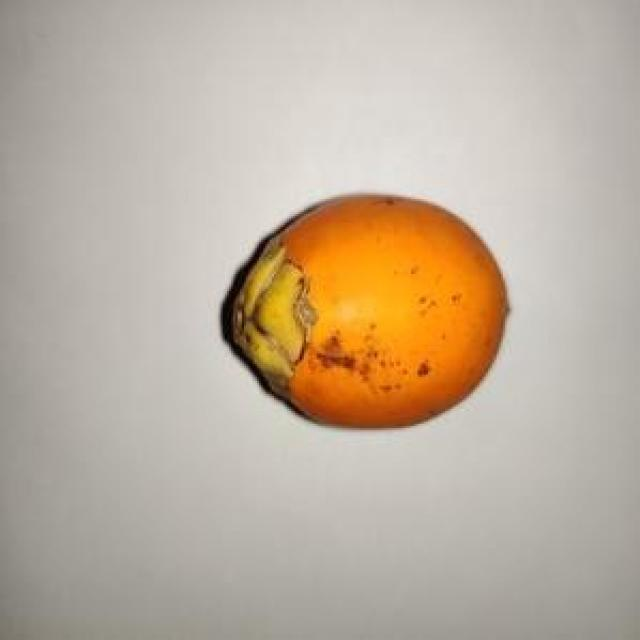good: (223, 193, 512, 432)
